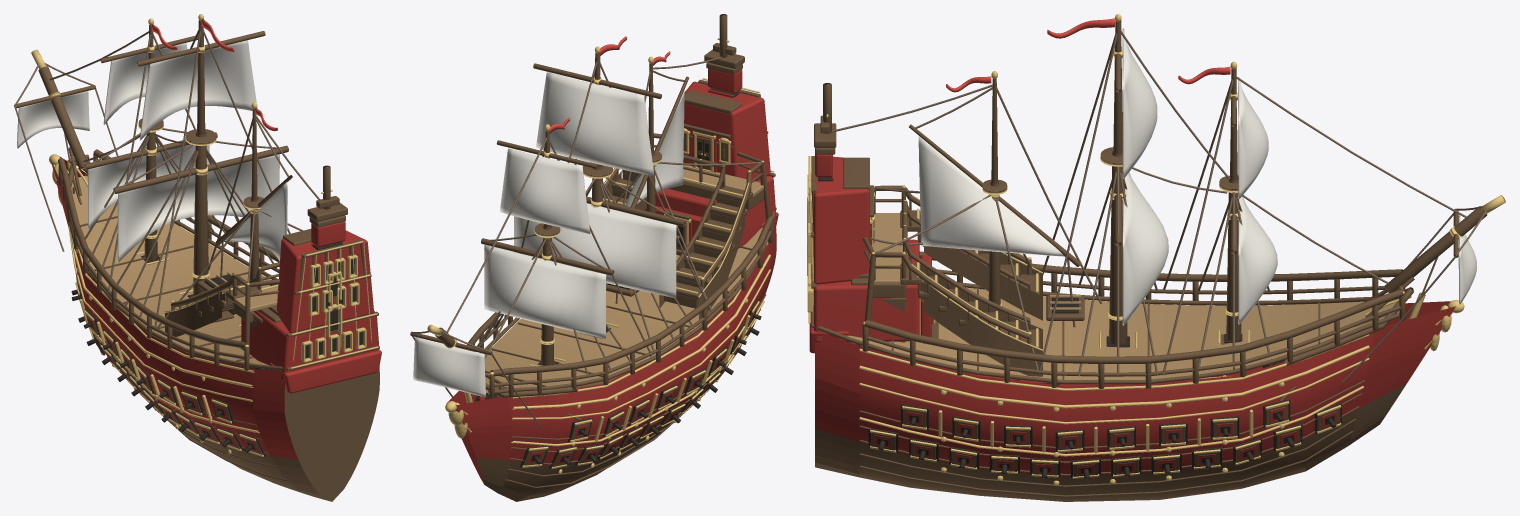
File: galleon.glb
3 renders of one model, left to right at view 1: azimuth 30°, elevation 25°; view 2: azimuth 150°, elevation 25°; view 3: azimuth 270°, elevation 25°, orthographic. The views are drawn at different scales.
Visible parts, largest first — view 1: HullMesh, Sterncastle, Deck, Sail_Main_Course, Sail_Main_Topsail, Railings, Gunports, Rigging_Main, Mast_Main, Sail_Fore_Course, Rigging_Fore, Sail_Fore_Topsail (+13 smaller); view 2: HullMesh, Sterncastle, Deck, Sail_Main_Topsail, Sail_Main_Course, Sail_Fore_Course, Railings, Sail_Fore_Topsail, Gunports, Sail_Bowsprit, Rigging_Fore, Sail_Mizzen_Lateen (+13 smaller); view 3: HullMesh, Sterncastle, Deck, Railings, Gunports, Sail_Mizzen_Lateen, Sail_Main_Course, Rigging_Main, Rigging_Fore, Sail_Main_Topsail, Sail_Fore_Course, Mast_Main (+9 smaller).
Part boxes in pixels (box(x1,y1,x2,y2)): HullMesh: box(49, 147, 379, 501); Sterncastle: box(165, 165, 381, 393); Deck: box(71, 175, 283, 370); Sail_Main_Course: box(117, 154, 279, 262); Sail_Main_Topsail: box(139, 40, 257, 140); Railings: box(58, 149, 374, 370); Gunports: box(75, 282, 265, 456); Rigging_Main: box(109, 30, 290, 329); Mast_Main: box(185, 14, 216, 299); Sail_Fore_Course: box(88, 144, 209, 229); Rigging_Fore: box(49, 31, 250, 294); Sail_Fore_Topsail: box(103, 42, 187, 124); HullMesh: box(445, 222, 776, 501); Sterncastle: box(603, 14, 778, 319); Deck: box(481, 210, 775, 394); Sail_Main_Topsail: box(536, 72, 654, 176); Sail_Main_Course: box(514, 203, 676, 298); Sail_Fore_Course: box(484, 245, 606, 338); Railings: box(465, 162, 773, 398); Sail_Fore_Topsail: box(500, 148, 590, 233); Gunports: box(475, 299, 759, 469); Sail_Bowsprit: box(413, 337, 485, 397); Rigging_Fore: box(446, 137, 652, 374); Sail_Mizzen_Lateen: box(625, 90, 684, 206); HullMesh: box(815, 277, 1464, 501); Sterncastle: box(807, 83, 1042, 376); Deck: box(817, 270, 1399, 384); Railings: box(862, 190, 1413, 388); Gunports: box(868, 360, 1341, 478); Sail_Mizzen_Lateen: box(918, 136, 1064, 256); Sail_Main_Course: box(1122, 172, 1168, 325); Rigging_Main: box(1039, 30, 1229, 376); Rigging_Fore: box(1162, 76, 1466, 375); Sail_Main_Topsail: box(1122, 28, 1157, 178); Sail_Fore_Course: box(1238, 196, 1277, 324); Mast_Main: box(1100, 14, 1127, 344).
Size of the model in its own units: 2.06 by 4.8 by 6.22.
